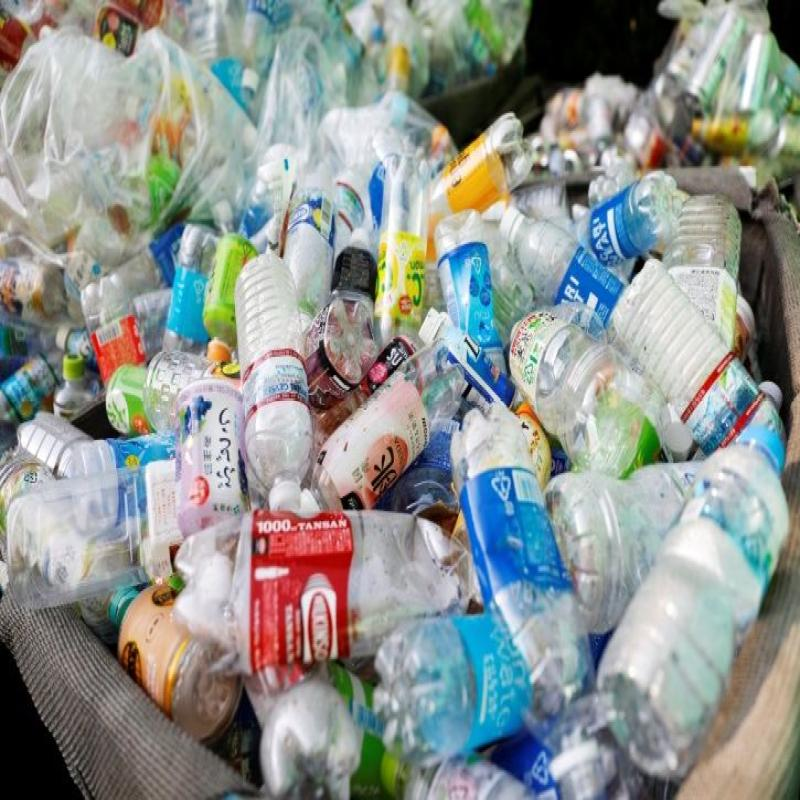botella: (594, 411, 794, 784), (184, 506, 474, 666), (451, 406, 592, 705), (606, 252, 787, 459), (311, 340, 477, 503), (5, 470, 190, 610), (551, 466, 706, 632), (500, 309, 650, 462), (106, 584, 238, 743), (236, 245, 314, 512), (385, 618, 534, 750), (419, 108, 534, 246), (502, 205, 619, 332), (252, 677, 363, 800), (80, 224, 206, 330), (524, 698, 654, 800), (53, 430, 191, 525), (672, 194, 748, 354), (376, 143, 433, 349), (376, 743, 581, 800), (566, 178, 678, 279), (166, 226, 232, 390), (317, 222, 383, 384), (282, 170, 334, 326), (8, 412, 104, 480), (46, 348, 112, 418)
